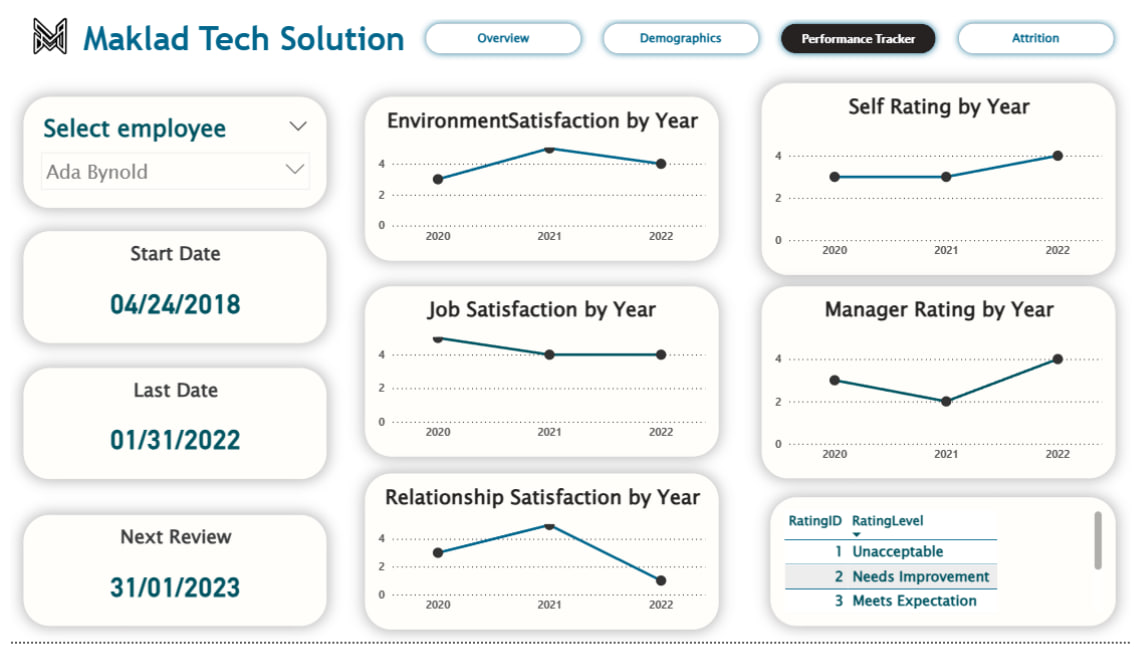

Layout of this report page (visuals, bound fields, positions):
{"tool":"powerbi","page":{"name":"Performance Tracker","canvas":[1280,720],"ordinal":2},"visuals":[{"type":"slicer","fields":{"Values":["DimEmployee.FullName"]},"box":[20,100,345,126.2],"z":0},{"type":"card","title":"Start Date","fields":{"Values":["Min(DimEmployee.HireDate)"]},"box":[20,252.5,345,127.5],"z":1000},{"type":"card","title":"Last Date","fields":{"Values":["_Measures.LastReviewDate"]},"box":[20,408.8,345,126.2],"z":2000},{"type":"card","title":"Next Review","fields":{"Values":["_Measures.NextReviewDate"]},"box":[20,576.2,345,126.2],"z":3000},{"type":"lineChart","fields":{"Y":["_Measures.EnvironmentSatisfaction"],"Category":["DimDate.Date.Variation.Date Hierarchy.Year"]},"box":[408.8,100,402.5,186.2],"z":4000},{"type":"lineChart","title":"Job Satisfaction by Year","fields":{"Category":["DimDate.Date.Variation.Date Hierarchy.Year"],"Y":["_Measures.JobSatisfaction"]},"box":[408.8,316.2,402.5,193.8],"z":5000},{"type":"lineChart","title":"Relationship Satisfaction by Year","fields":{"Y":["_Measures.RelationshipSatisfaction"],"Category":["DimDate.Date.Variation.Date Hierarchy.Year"]},"box":[408.8,528.8,402.5,177.5],"z":6000},{"type":"lineChart","title":"Self Rating by Year","fields":{"Y":["_Measures.SelfRating"],"Category":["DimDate.Date.Variation.Date Hierarchy.Year"]},"box":[860,83.8,402.5,218.8],"z":7000},{"type":"lineChart","title":"Manager Rating by Year","fields":{"Category":["DimDate.Date.Variation.Date Hierarchy.Year"],"Y":["_Measures.ManagerRating"]},"box":[860,316.2,402.5,218.8],"z":8000},{"type":"textbox","box":[83,6.5,391.5,55],"z":9000},{"type":"pageNavigator","box":[470,8.8,800,50],"z":9000},{"type":"tableEx","fields":{"Values":["DimRatingLevel.RatingID","DimRatingLevel.RatingLevel"]},"box":[870,556.2,392.5,146.2],"z":10000},{"type":"image","box":[0,0,100,66.5],"z":10001}]}

Visuals, with their boxes in screenshot pixels (x1, y1, x2, y2), scaled from the page's 1280x720 canvas onto the 1140x656 screenshot:
slicer - DimEmployee.FullName: region(18, 91, 325, 206)
"Start Date" card: region(18, 230, 325, 346)
"Last Date" card: region(18, 372, 325, 487)
"Next Review" card: region(18, 525, 325, 640)
lineChart - _Measures.EnvironmentSatisfaction x DimDate.Date.Variation.Date Hierarchy.Year: region(364, 91, 723, 261)
"Job Satisfaction by Year" lineChart: region(364, 288, 723, 465)
"Relationship Satisfaction by Year" lineChart: region(364, 482, 723, 644)
"Self Rating by Year" lineChart: region(766, 76, 1124, 276)
"Manager Rating by Year" lineChart: region(766, 288, 1124, 487)
textbox: region(74, 6, 423, 56)
pageNavigator: region(419, 8, 1131, 54)
tableEx - DimRatingLevel.RatingID x DimRatingLevel.RatingLevel: region(775, 507, 1124, 640)
image: region(0, 0, 89, 61)
